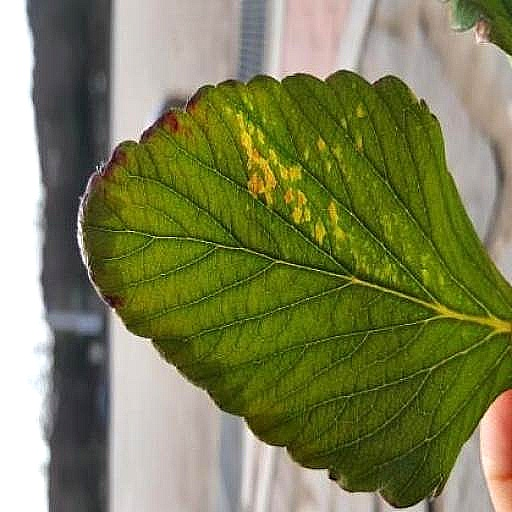Angular Leafspot: (219, 82, 458, 304)
